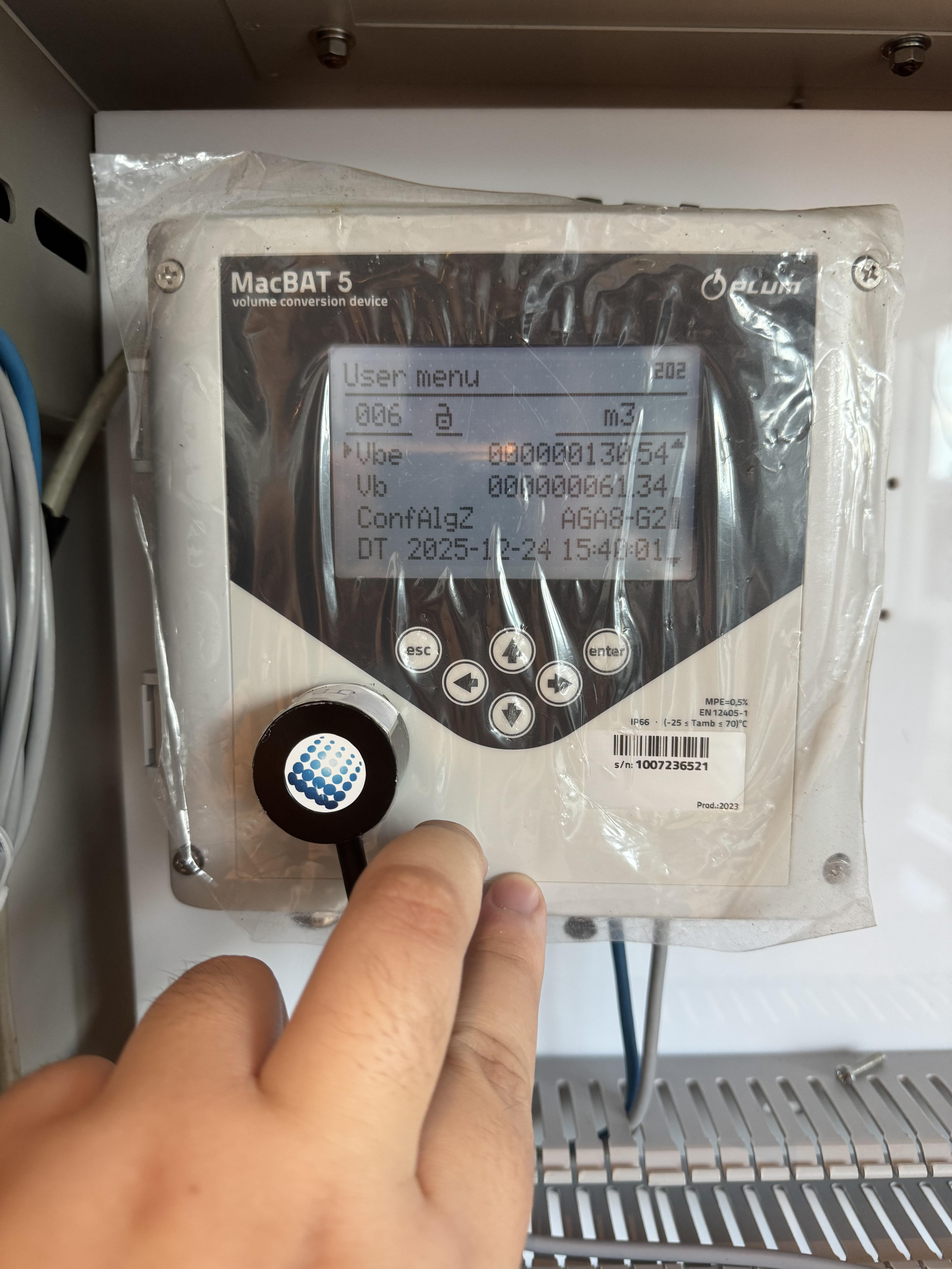digital_screen: (327, 343, 700, 579)
